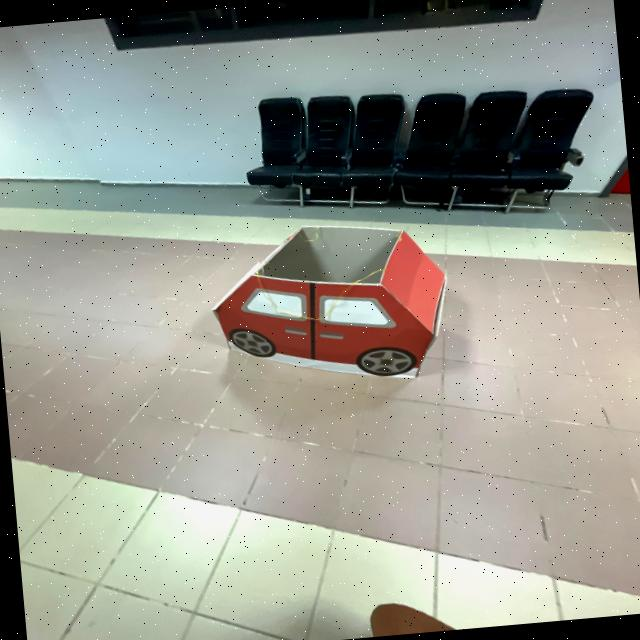red_car: (185, 205, 476, 412)
